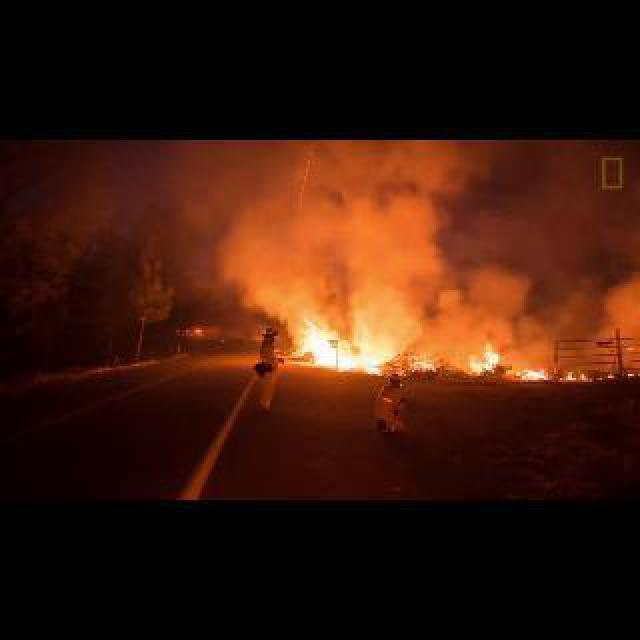Fire: (300, 318, 384, 374), (462, 342, 496, 374), (520, 368, 550, 382), (566, 372, 614, 380)
Smoke: (226, 176, 526, 340)
